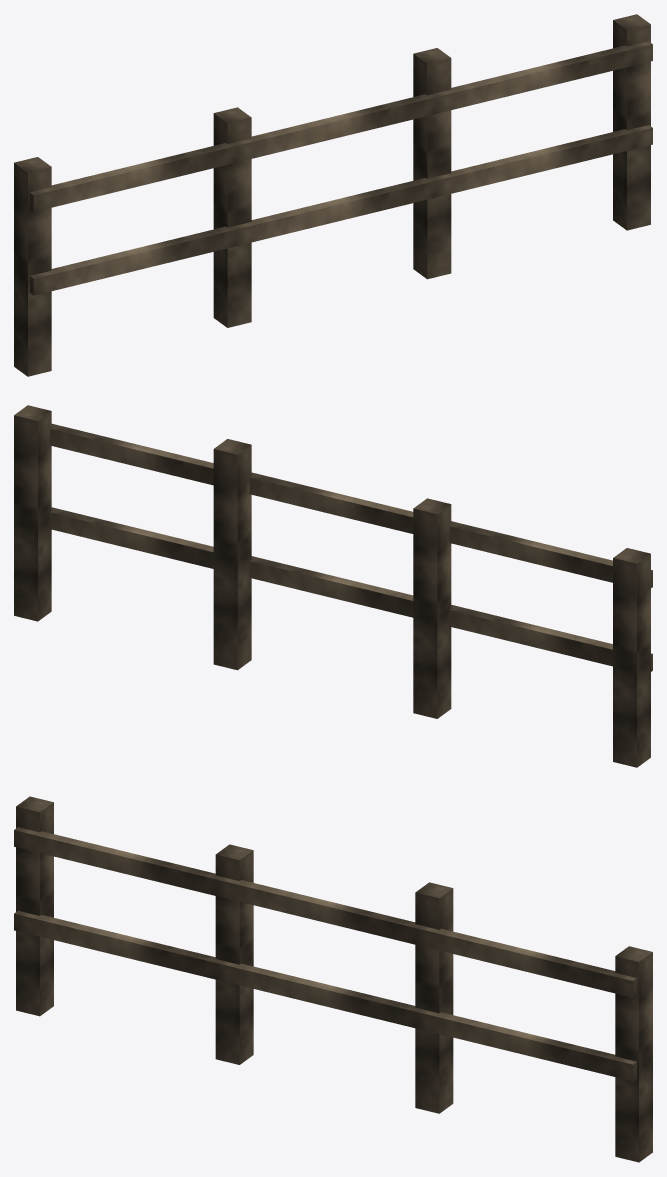
The model's file is fence.glb.
The picture shows the model from 3 angles, top to bottom: view 1: azimuth 30°, elevation 25°; view 2: azimuth 150°, elevation 25°; view 3: azimuth 330°, elevation 25°; orthographic projection.
Size of the model in its own units: 3.12 by 1.03 by 0.155.
Materials: 1 (1 with a texture image).
